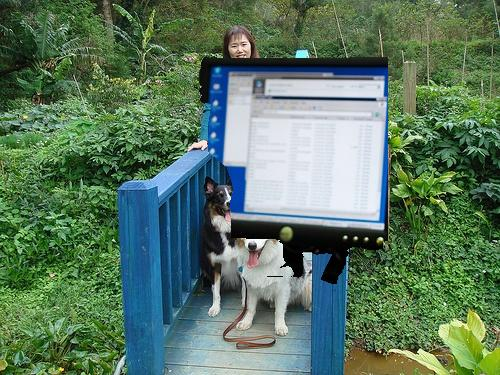tampered: (200, 57, 388, 284)
